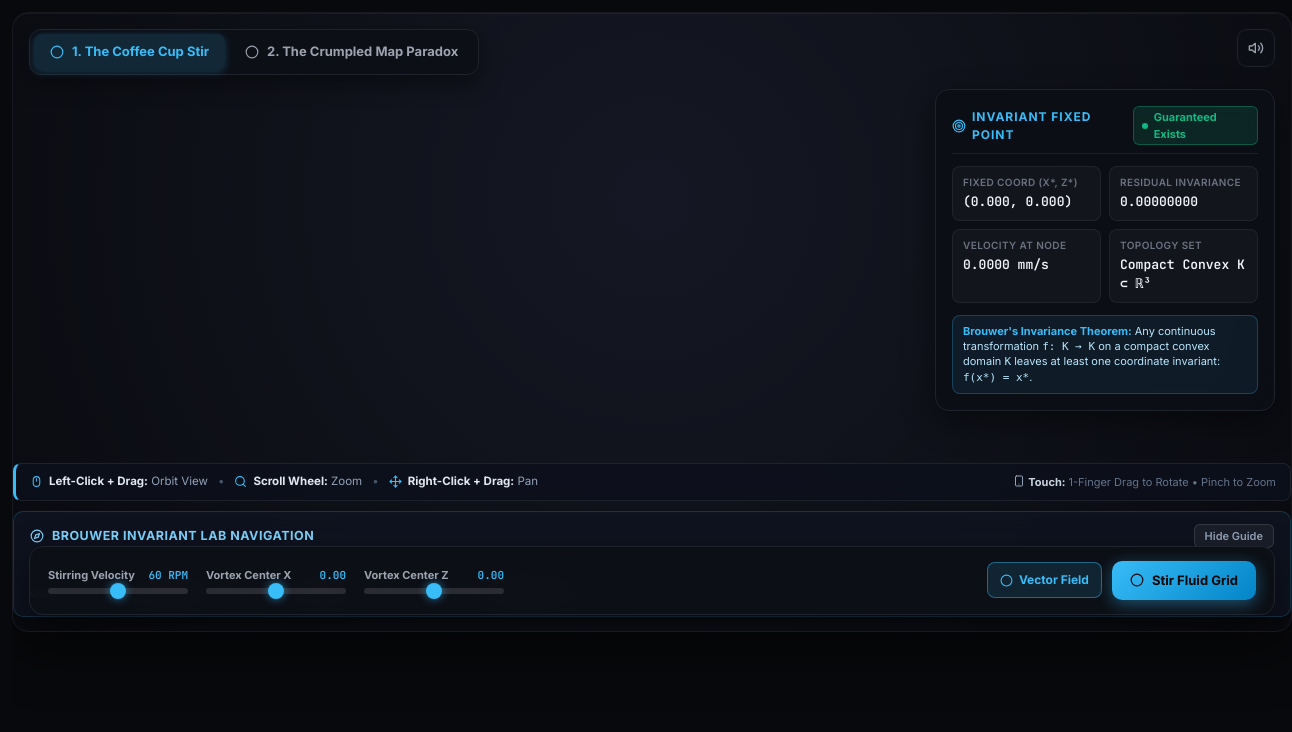
Test: BrouwersFixedPoint3DLab › provides Coffee Cup Stir and Crumpled Map Paradox mode tabs
Check: the tab "1. The Coffee Cup Stir" is shown, box [34, 34, 225, 70]
Switch to Crumpled Map mode
Click the tab "2. The Crumpled Map Paradox": click(352, 52) [229, 34, 474, 70]
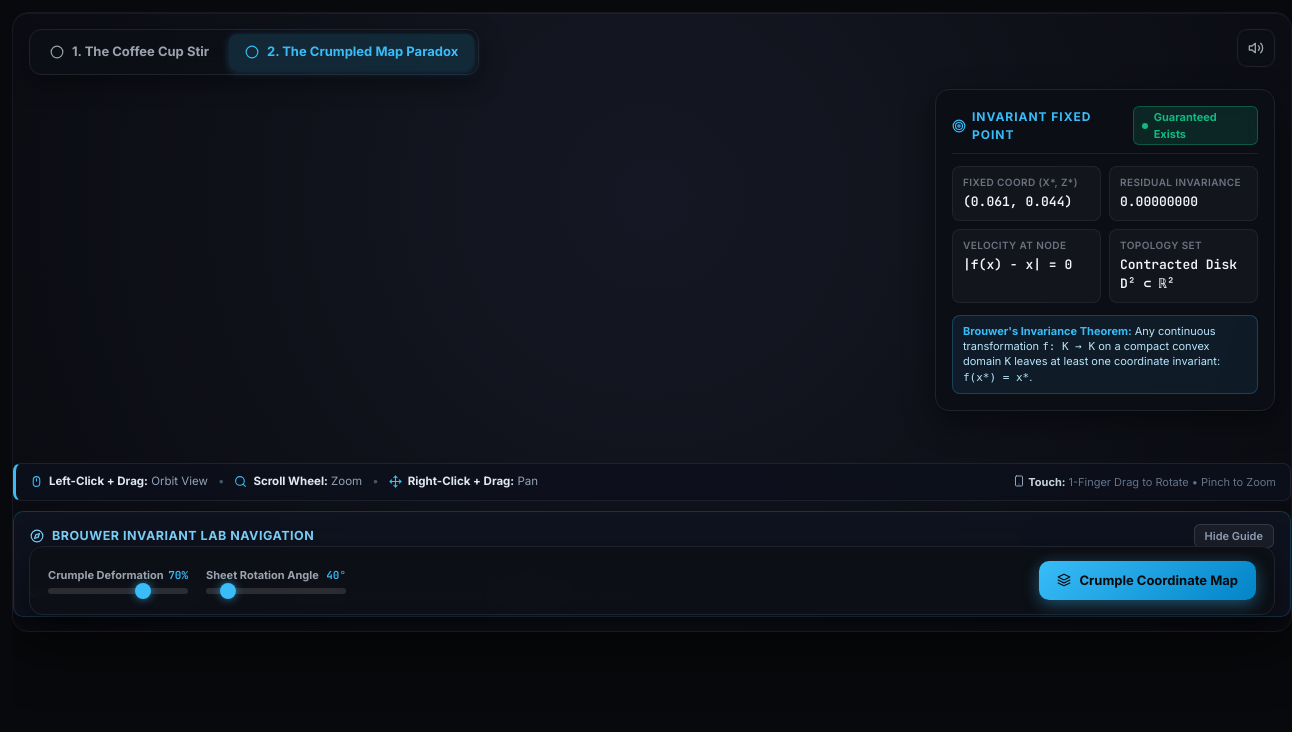
Check: the button "Crumple Coordinate Map" is shown, box [1039, 560, 1256, 600]
